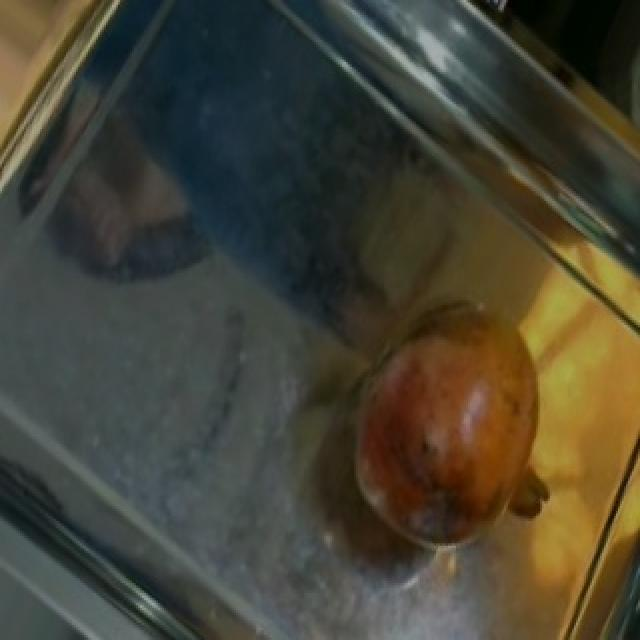fruit: (322, 273, 578, 568)
